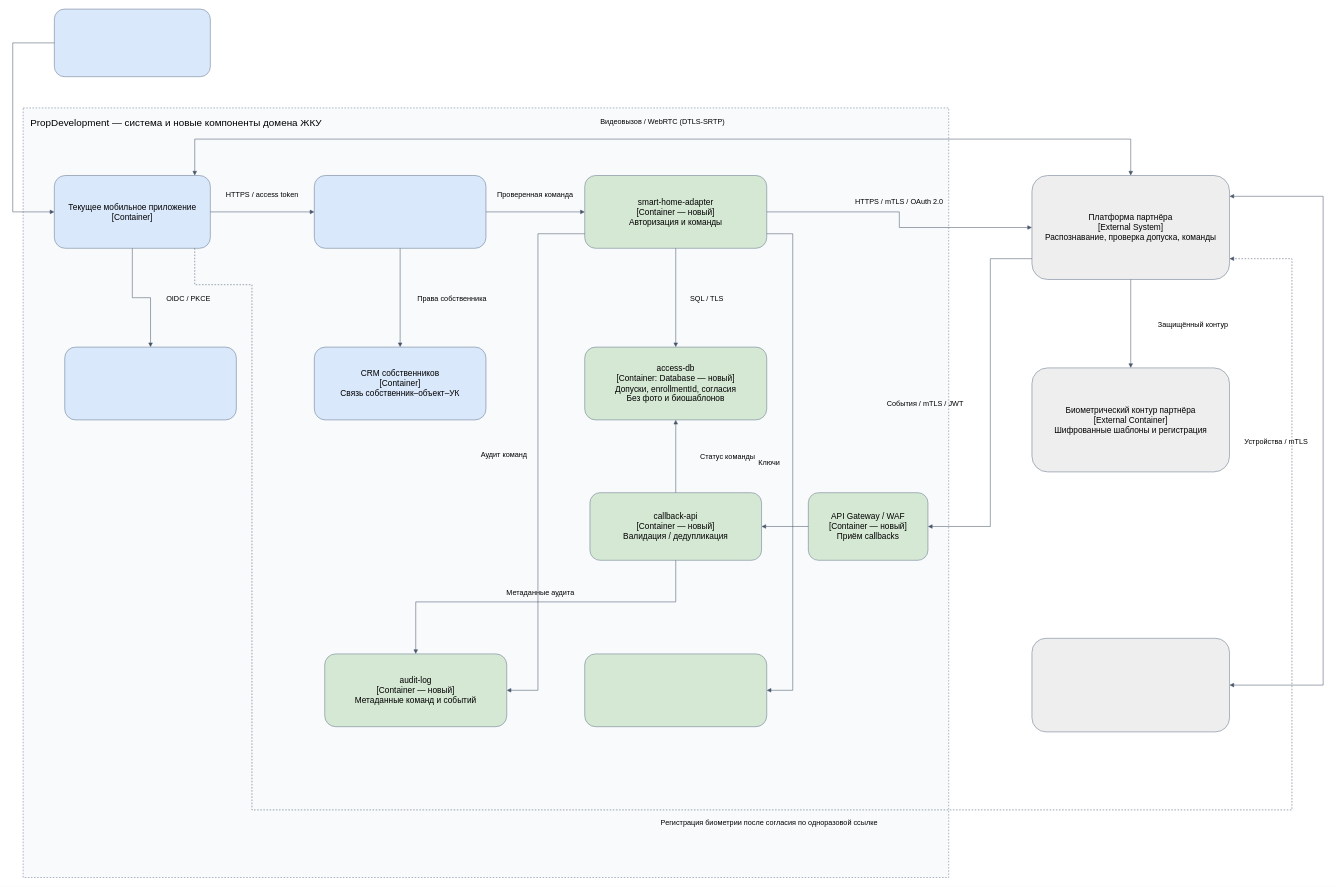
Some shapes in this 1337 by 887 pixel diagram are drawn without their labels. Here are the shapes that lost their labels. From the top down, the box of each, then its label:
(54, 9, 210, 77): Собственник [Person]
(314, 175, 486, 248): tenant-core-app [Container] Проверка прав на дом и устройство
(64, 347, 236, 420): auth-service-1 [Container: Keycloak] OIDC / PKCE
(584, 653, 767, 727): Хранилище секретов [Container — новый] Ключи и токены интеграций
(1031, 638, 1230, 732): Домофон / шлагбаум [External Devices] Распознавание лица/номера, открытие
